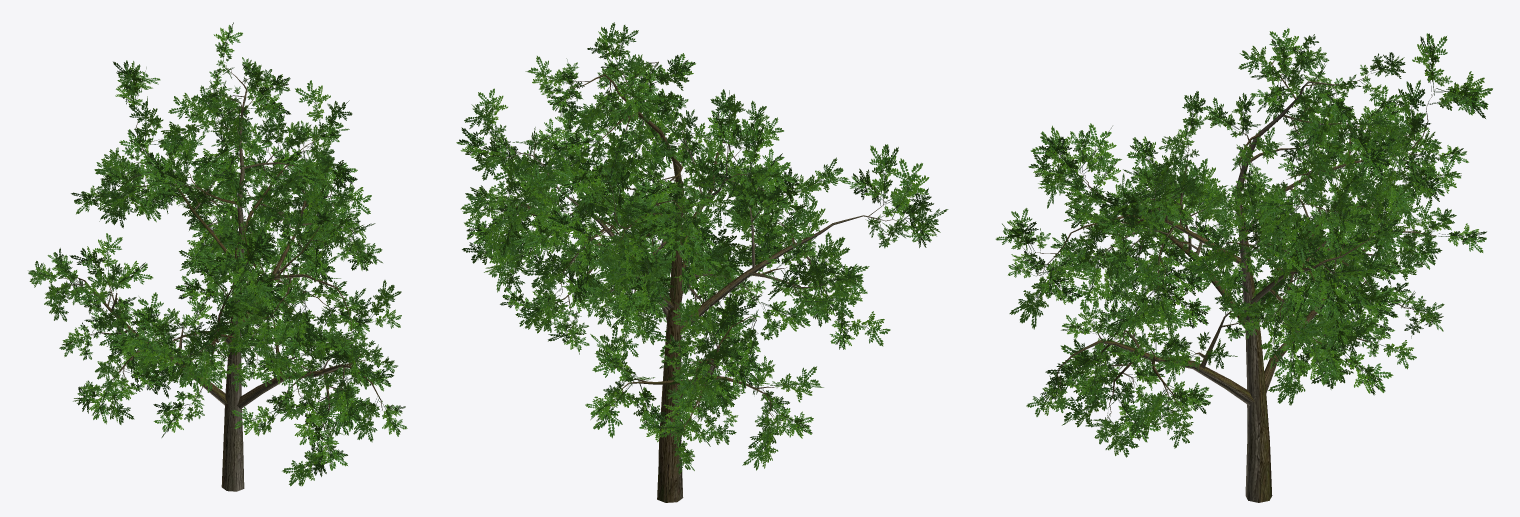
The model's file is tree-ash.glb.
The picture shows the model from 3 angles, left to right: view 1: azimuth 30°, elevation 25°; view 2: azimuth 150°, elevation 25°; view 3: azimuth 270°, elevation 25°; orthographic projection. The views are drawn at different scales.
Parts seen in each view (by area): view 1: Tree; view 2: Tree; view 3: Tree.
Part boxes in pixels (x1=…): Tree: x1=28, y1=22, x2=407, y2=491; Tree: x1=456, y1=22, x2=948, y2=502; Tree: x1=995, y1=28, x2=1492, y2=502.
Size of the model in its own units: 0.8728 by 0.9891 by 0.9544.
Materials: 2 (2 with a texture image).
